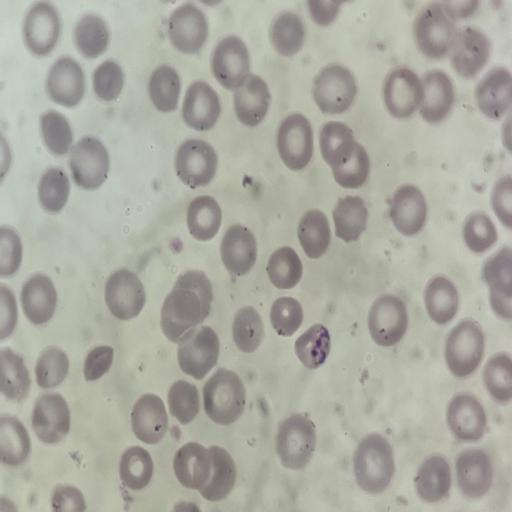Infected: (295, 324, 331, 368)
Uninfected: (159, 274, 215, 342), (317, 123, 368, 186), (352, 436, 396, 492), (175, 326, 220, 378), (202, 371, 246, 424), (443, 320, 484, 375), (196, 446, 237, 499), (175, 139, 218, 188), (416, 7, 458, 57), (275, 416, 316, 467), (276, 116, 315, 169), (166, 4, 209, 52), (104, 270, 146, 319), (68, 138, 110, 187), (312, 66, 356, 112), (369, 295, 407, 347), (387, 186, 428, 234), (31, 394, 71, 443), (383, 67, 423, 116), (173, 443, 215, 489), (181, 82, 221, 130), (45, 58, 85, 106), (211, 38, 251, 85), (220, 226, 258, 275), (130, 396, 168, 444), (232, 76, 270, 124), (415, 72, 453, 120), (450, 27, 489, 73), (484, 251, 512, 315), (20, 276, 57, 324), (454, 449, 491, 497), (23, 3, 59, 52), (447, 394, 486, 439), (477, 69, 512, 118), (167, 379, 203, 426), (414, 456, 451, 501), (297, 210, 332, 257), (423, 276, 458, 323), (73, 13, 111, 56), (40, 110, 75, 155), (231, 307, 265, 353), (148, 67, 183, 111), (333, 196, 367, 241), (0, 350, 31, 399), (34, 348, 70, 390), (119, 447, 154, 490), (0, 416, 31, 464), (186, 197, 222, 238), (266, 248, 302, 288), (271, 13, 306, 54), (38, 169, 71, 211), (92, 60, 125, 101), (483, 354, 512, 399), (463, 213, 496, 252), (270, 298, 303, 335), (83, 346, 115, 381), (490, 176, 512, 226), (307, 1, 350, 26), (51, 485, 86, 512)
